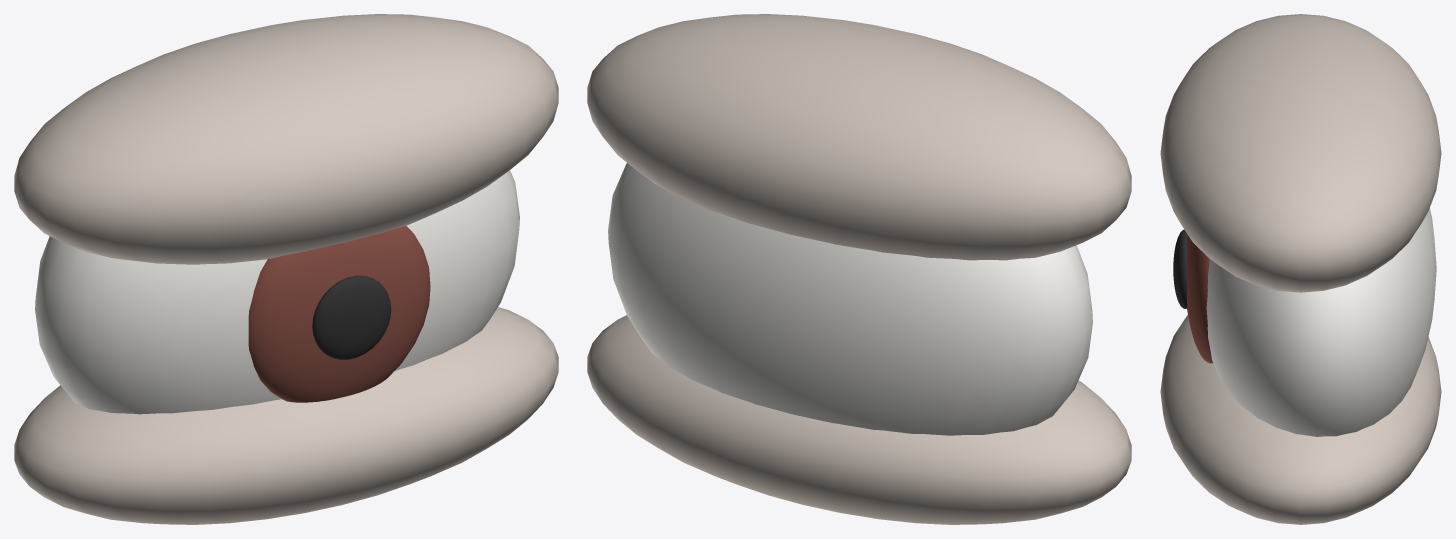
The model's file is seer.glb.
3 views of the same model, side by side, from view 1: azimuth 30°, elevation 25°; view 2: azimuth 150°, elevation 25°; view 3: azimuth 270°, elevation 25° (orthographic). The views are drawn at different scales.
Visible parts, largest first — view 1: lidtop, lidbot, eye, iris, pupil; view 2: lidtop, eye, lidbot; view 3: lidtop, eye, lidbot, iris, pupil.
Boxes of the visible parts, box(x1,y1,x2,y2) form: lidtop: box(14, 14, 558, 264); lidbot: box(14, 307, 558, 524); eye: box(35, 170, 519, 414); iris: box(248, 226, 430, 402); pupil: box(312, 275, 391, 359); lidtop: box(587, 14, 1131, 260); eye: box(608, 163, 1092, 435); lidbot: box(587, 315, 1131, 524); lidtop: box(1160, 14, 1441, 292); eye: box(1206, 208, 1436, 436); lidbot: box(1160, 315, 1441, 524); iris: box(1187, 234, 1212, 363); pupil: box(1173, 229, 1187, 308).
Size of the model in its own units: 0.672 by 0.538 by 0.352.
